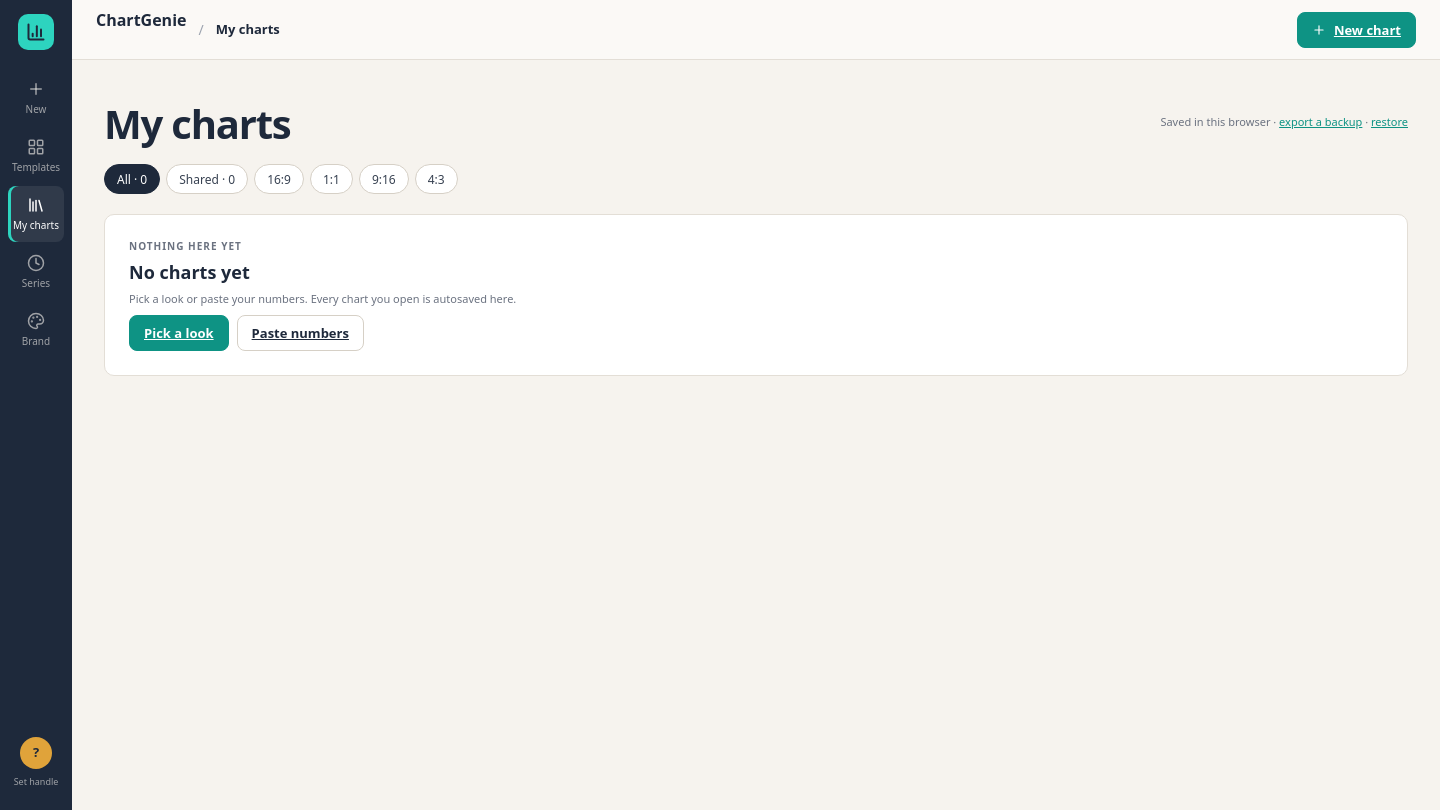
it: the real "/" route with a real query string › the Templates nav link (a raw "/?templates=1" href, like Link and a real click produce) reaches the gallery
This screenshot has width=1440, height=810.
Click the link "Templates".
click(36, 156)  # box [8, 128, 64, 184]
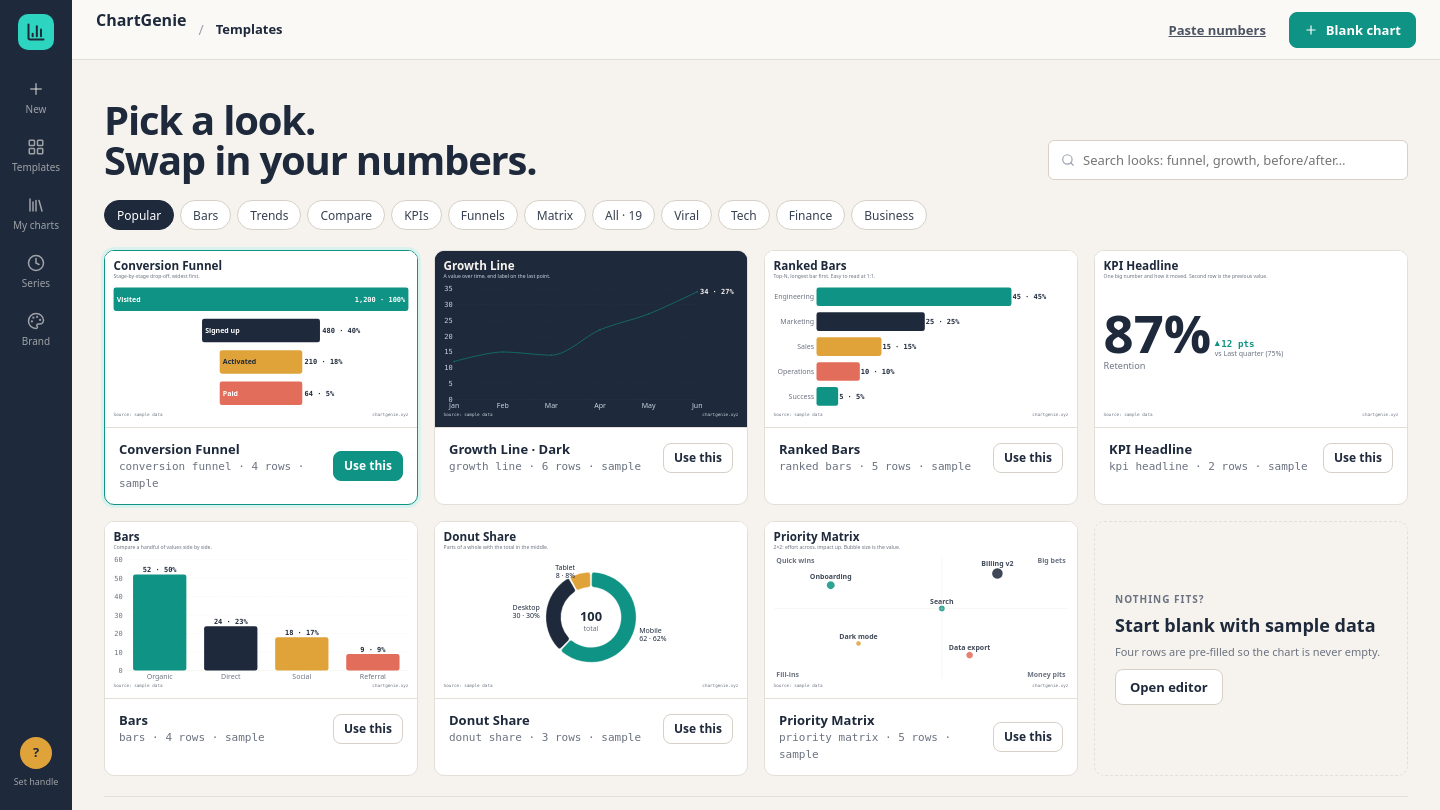
Expected: the heading "Pick a look.Swap in your numbers." is shown, [104, 100, 536, 180]
